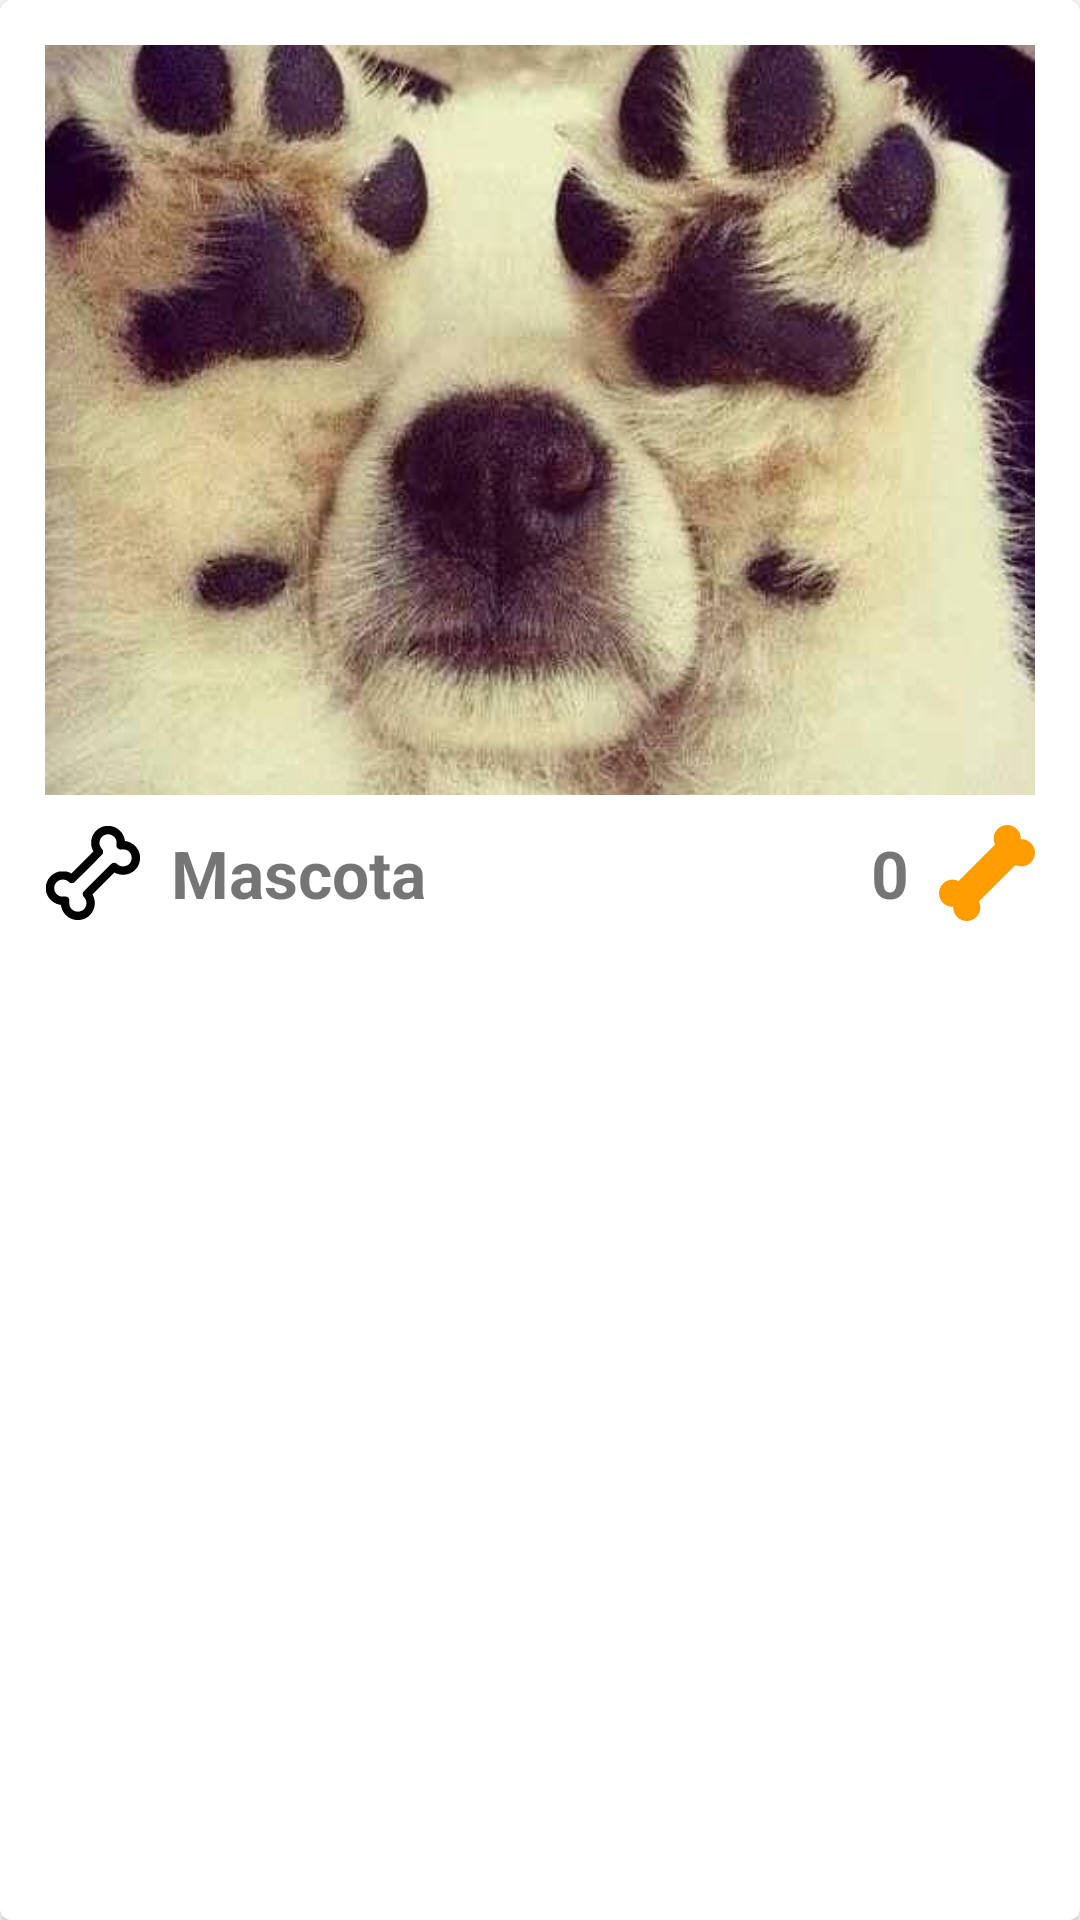

Named icons in this screenshot (1080w x 1920h) and their bounding boxes, (x1, y1, x2, y2):
dogbone: (939, 825, 1035, 921), (46, 826, 140, 920)
